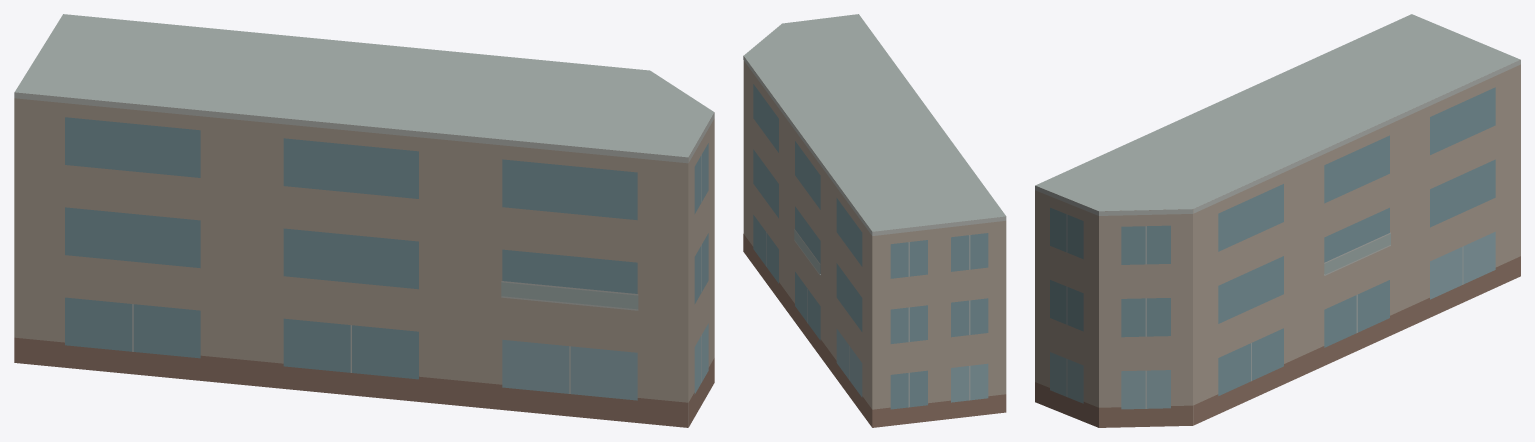
Rendered from survey-upis-32732614.glb.
3 views of the same model, side by side, from view 1: azimuth 30°, elevation 25°; view 2: azimuth 150°, elevation 25°; view 3: azimuth 270°, elevation 25° (orthographic). The views are drawn at different scales.
Parts seen in each view (by area): view 1: survey-upis-32732614.tmp; view 2: survey-upis-32732614.tmp; view 3: survey-upis-32732614.tmp.
Boxes of the visible parts, box(x1,y1,x2,y2) form: survey-upis-32732614.tmp: box(14, 14, 714, 427); survey-upis-32732614.tmp: box(743, 14, 1006, 427); survey-upis-32732614.tmp: box(1035, 14, 1520, 427).
Size of the model in its own units: 21.69 by 11.1 by 22.56.
